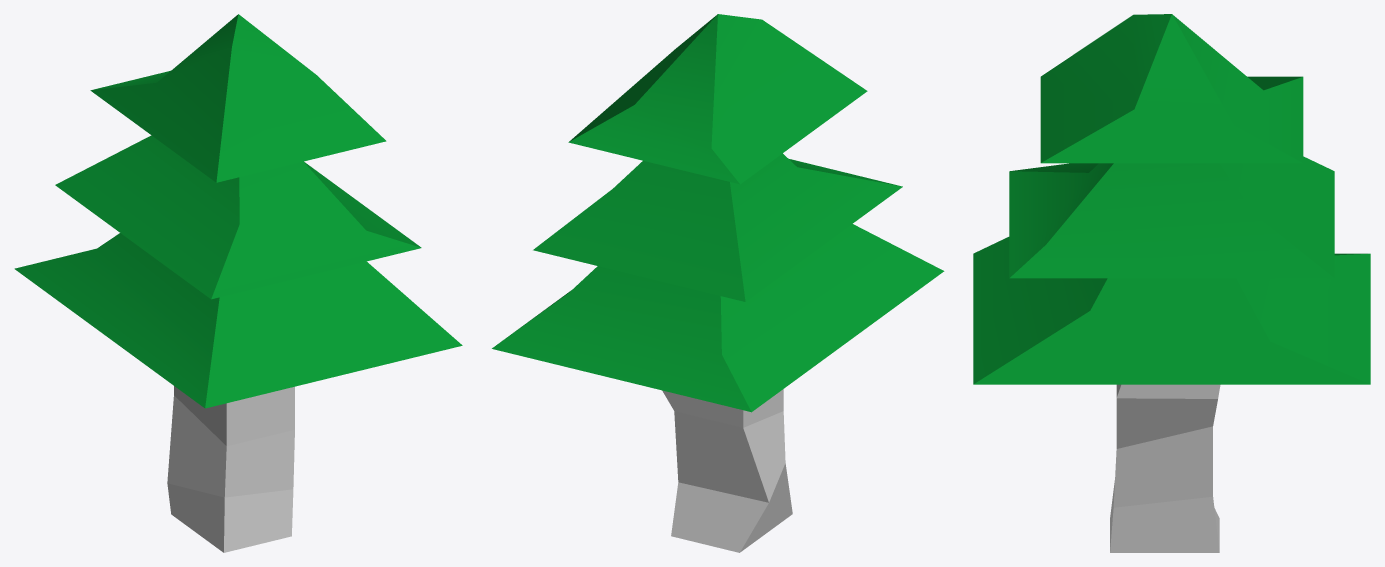
Rendered from tree2.FBX.
3 renders of one model, left to right at view 1: azimuth 30°, elevation 25°; view 2: azimuth 150°, elevation 25°; view 3: azimuth 270°, elevation 25°, orthographic. The views are drawn at different scales.
Parts seen in each view (by area): view 1: Pyramid001, Pyramid002, Pyramid003, Box001; view 2: Pyramid001, Pyramid002, Pyramid003, Box001; view 3: Pyramid001, Pyramid002, Pyramid003, Box001.
Part boxes in pixels (x1,y1,x2,y2): Pyramid001: (14, 233, 462, 408); Pyramid002: (55, 135, 421, 299); Pyramid003: (90, 14, 386, 182); Box001: (167, 386, 294, 552); Pyramid001: (492, 224, 944, 412); Pyramid002: (533, 153, 902, 301); Pyramid003: (568, 14, 867, 184); Box001: (662, 389, 792, 552); Pyramid001: (973, 237, 1370, 384); Pyramid002: (1009, 156, 1334, 278); Pyramid003: (1040, 14, 1303, 163); Box001: (1110, 384, 1220, 552).
Bounding box in the file's own units: 66.94 × 126 × 85.91.
